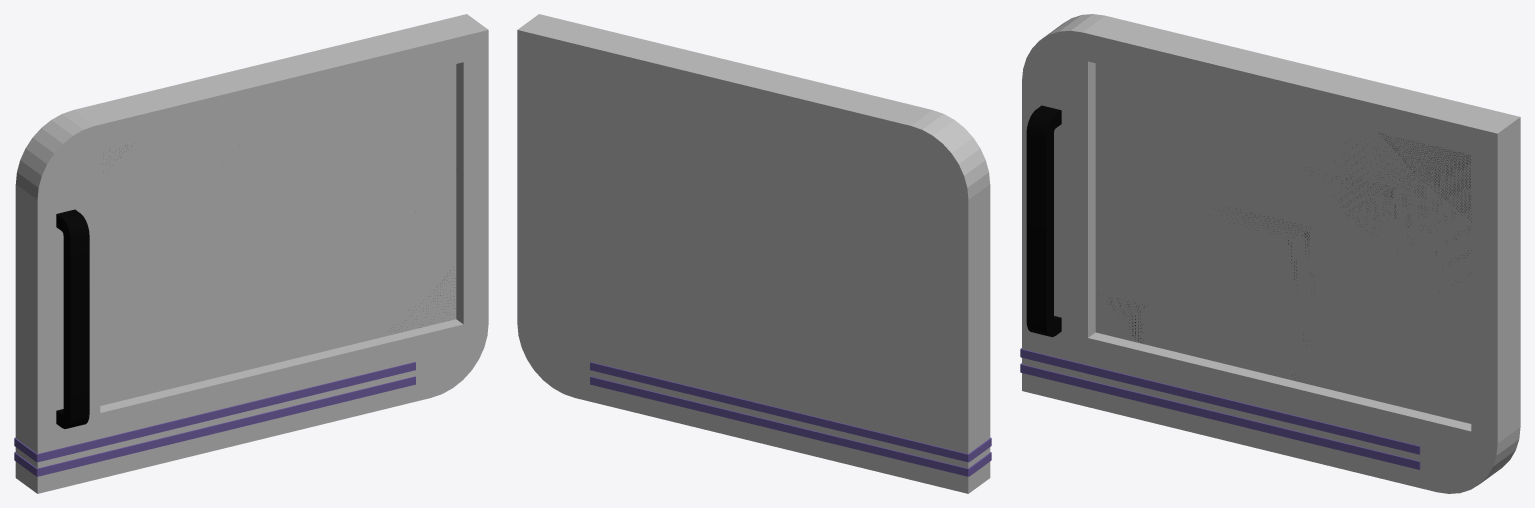
The model's file is SC Show Selector.fbx.
The picture shows the model from 3 angles, left to right: view 1: azimuth 30°, elevation 25°; view 2: azimuth 150°, elevation 25°; view 3: azimuth 330°, elevation 25°; orthographic projection. The views are drawn at different scales.
Parts seen in each view (by area): view 1: Body, Strip, Handle; view 2: Body, Strip; view 3: Body, Strip, Handle.
Part boxes in pixels (x1,y1,x2,y2): Body: [15, 14, 488, 493]; Strip: [14, 362, 415, 476]; Handle: [56, 209, 89, 428]; Body: [517, 14, 990, 493]; Strip: [590, 362, 991, 476]; Body: [1022, 14, 1520, 493]; Strip: [1020, 348, 1420, 469]; Handle: [1026, 105, 1061, 337].
Size of the model in its own units: 36.1 by 27 by 5.1.
